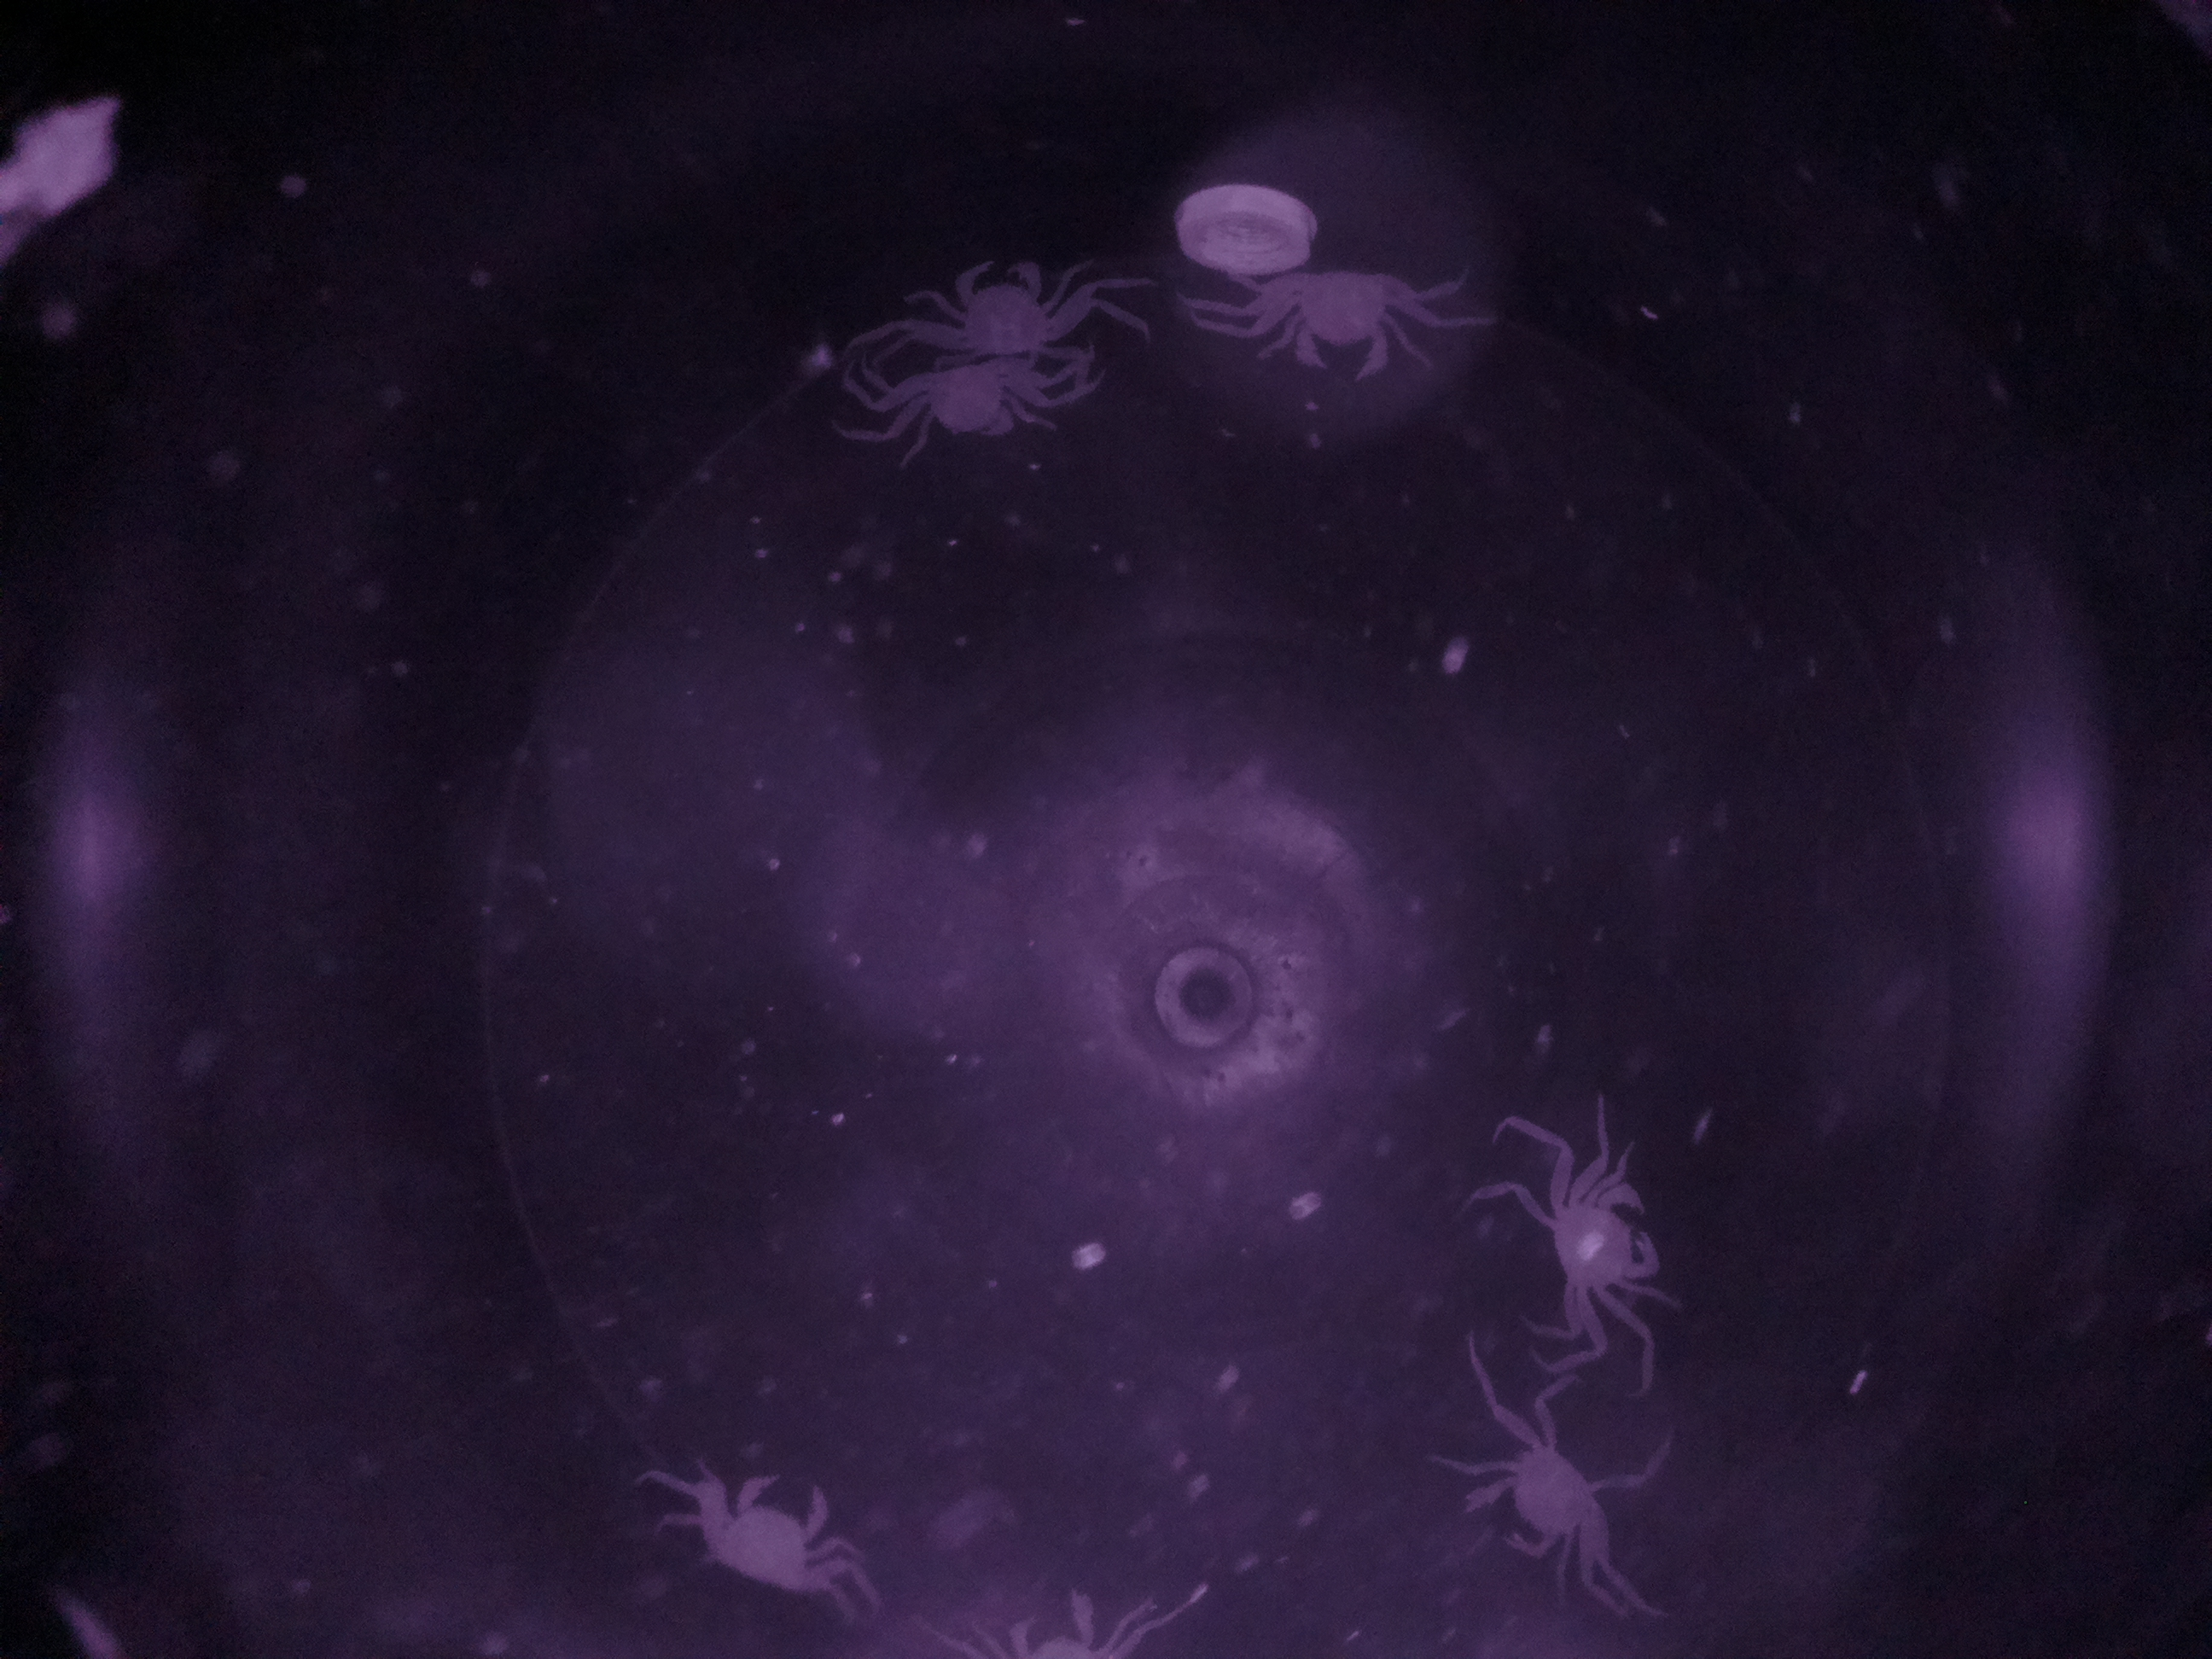Crab: (1224, 240, 1446, 382), (658, 1452, 866, 1601), (1446, 1401, 1616, 1575), (894, 249, 1118, 359), (1536, 1140, 1662, 1326), (874, 359, 1106, 453)
